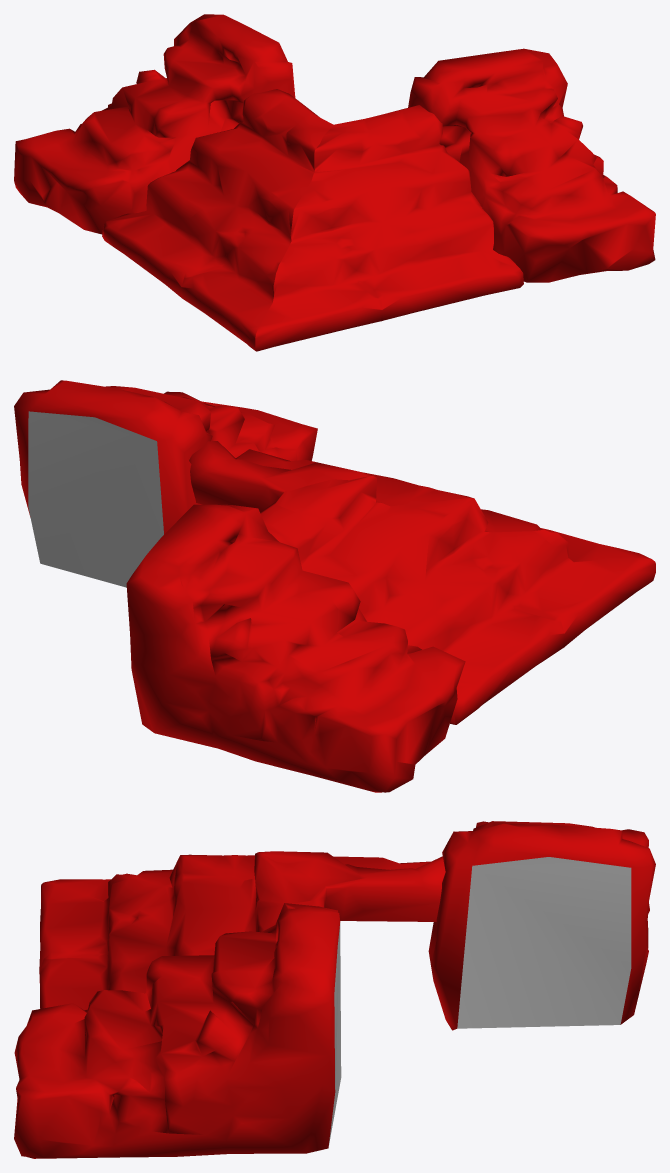
The model's file is SM_StairSet_1.FBX.
The picture shows the model from 3 angles, top to bottom: view 1: azimuth 30°, elevation 25°; view 2: azimuth 150°, elevation 25°; view 3: azimuth 270°, elevation 25°; orthographic projection. The views are drawn at different scales.
Parts seen in each view (by area): view 1: SM_StairSet_1; view 2: SM_StairSet_1; view 3: SM_StairSet_1.
Boxes of the visible parts, x1,y1,x2,y2 form: SM_StairSet_1: (14,14,655,351); SM_StairSet_1: (14,380,655,792); SM_StairSet_1: (14,821,655,1158).
Size of what is drawn, in the model's own units: 246 by 246 by 80.34.
